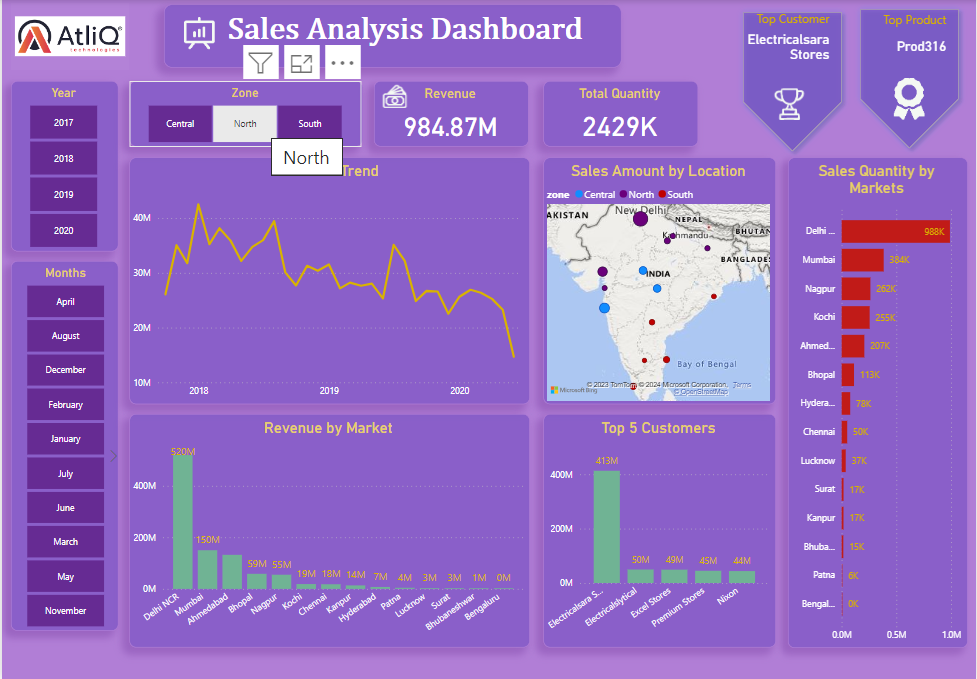

Layout of this report page (visuals, bound fields, positions):
{"tool":"powerbi","page":{"name":"Page 2","canvas":[1320,920],"ordinal":0},"visuals":[{"type":"textbox","box":[220.2,12.4,618.1,78.1],"z":0},{"type":"slicer","title":"Year","fields":{"Values":["sales date.year"]},"box":[12.4,110.1,145.6,230.9],"z":1000},{"type":"slicer","title":"Months","fields":{"Values":["sales date.month_name"]},"box":[12.4,353.4,145.6,500.8],"z":2000},{"type":"slicer","title":"Zone","fields":{"Values":["sales markets.zone"]},"box":[172.3,110.1,316.1,88.8],"z":3000},{"type":"card","title":"Revenue","fields":{"Values":["BaseMeasures (2).Revenue"]},"box":[504.4,110.1,209.6,88.8],"z":4000},{"type":"card","title":"Total Quantity","fields":{"Values":["BaseMeasures (2).Sales Qty"]},"box":[733.5,110.1,209.6,88.8],"z":5000},{"type":"lineChart","title":"Revenue Trend","fields":{"Category":["sales date.cy_date.Variation.Date Hierarchy.Year","sales date.cy_date.Variation.Date Hierarchy.Month"],"Y":["BaseMeasures (2).Revenue"]},"box":[172.3,213.1,541.7,333.9],"z":6000},{"type":"columnChart","title":"Revenue by Market","fields":{"Category":["sales markets.markets_name"],"Y":["BaseMeasures (2).Revenue"]},"box":[172.3,561.2,541.7,316.1],"z":7000},{"type":"columnChart","title":"Top 5 Customers","fields":{"Category":["sales customers.custmer_name"],"Y":["Sum(sales transactions.norm_sales_amount)"]},"box":[733.5,561.2,314.4,316.1],"z":8000},{"type":"map","title":"Sales Amount by Location","fields":{"Category":["sales markets.markets_name"],"Series":["sales markets.zone"],"Size":["Sum(sales transactions.norm_sales_amount)"]},"box":[733.5,213.1,314.4,333.9],"z":9000},{"type":"barChart","title":"Sales Quantity by Markets","fields":{"Category":["sales markets.markets_name"],"Y":["Sum(sales transactions.sales_qty)"]},"box":[1063.9,213.1,243.3,664.2],"z":10000},{"type":"cardVisual","title":"ee","fields":{"Data":["BaseMeasures (2).Top Product"]},"box":[1149.1,0,158.1,213.1],"z":12000},{"type":"cardVisual","title":"ee","fields":{"Data":["BaseMeasures (2).Top Customer"]},"box":[991,3.6,158.1,213.1],"z":13000},{"type":"image","box":[1019.5,90.6,101.2,99.5],"z":14000},{"type":"image","box":[1154.4,76.4,149.2,113.7],"z":15000},{"type":"image","box":[190,5.3,181.2,90.6],"z":15001},{"type":"image","box":[12.4,3.6,159.8,90.6],"z":15002},{"type":"image","box":[488.4,94.1,106.6,94.1],"z":15003}]}

Visuals, with their boxes in screenshot pixels (x1, y1, x2, y2), scaled from the page's 1320x920 canvas onto the 977x679 screenshot:
textbox: rect(163, 9, 620, 67)
"Year" slicer: rect(9, 81, 117, 252)
"Months" slicer: rect(9, 261, 117, 630)
"Zone" slicer: rect(128, 81, 361, 147)
"Revenue" card: rect(373, 81, 528, 147)
"Total Quantity" card: rect(543, 81, 698, 147)
"Revenue Trend" lineChart: rect(128, 157, 528, 404)
"Revenue by Market" columnChart: rect(128, 414, 528, 647)
"Top 5 Customers" columnChart: rect(543, 414, 776, 647)
"Sales Amount by Location" map: rect(543, 157, 776, 404)
"Sales Quantity by Markets" barChart: rect(787, 157, 968, 647)
"ee" cardVisual: rect(851, 0, 968, 157)
"ee" cardVisual: rect(733, 3, 851, 160)
image: rect(755, 67, 829, 140)
image: rect(854, 56, 965, 140)
image: rect(141, 4, 275, 71)
image: rect(9, 3, 127, 70)
image: rect(361, 69, 440, 139)
